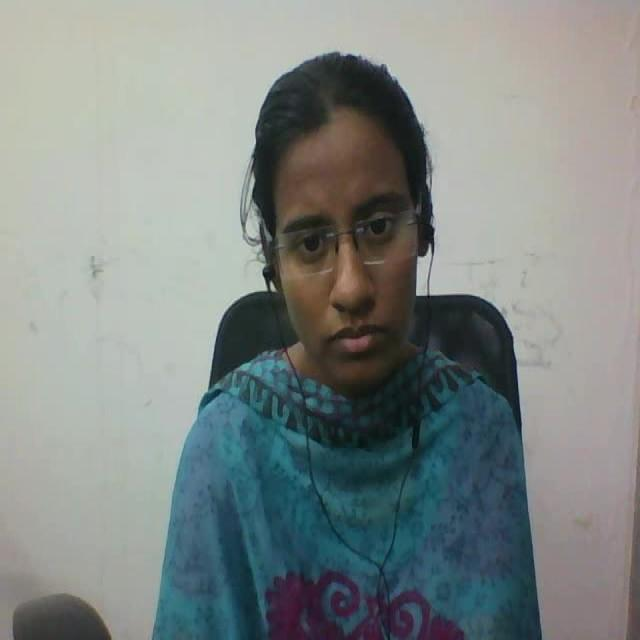Engaged: (242, 28, 464, 410)
